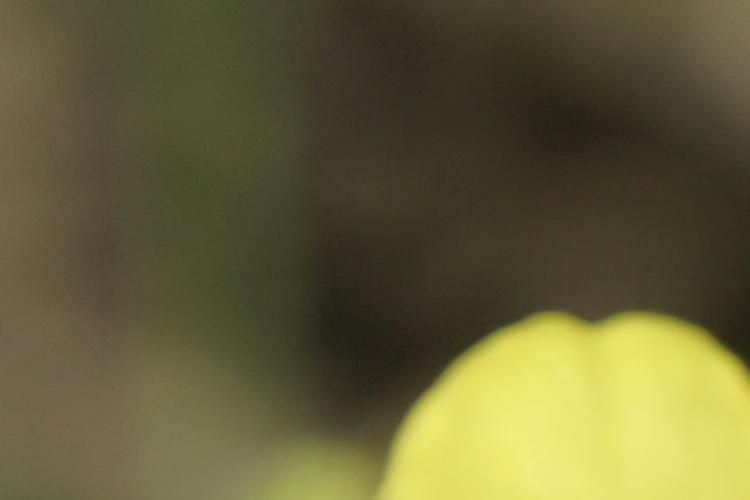yellow: (396, 303, 750, 499)
